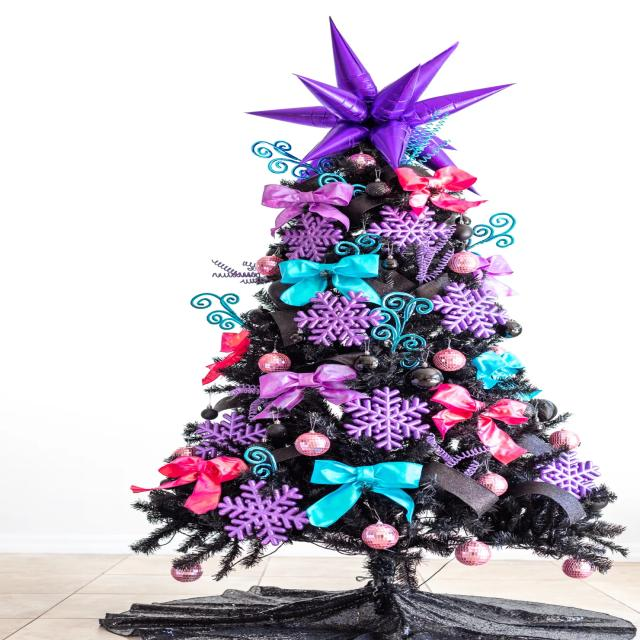Christmas-tree: (98, 0, 640, 577)
